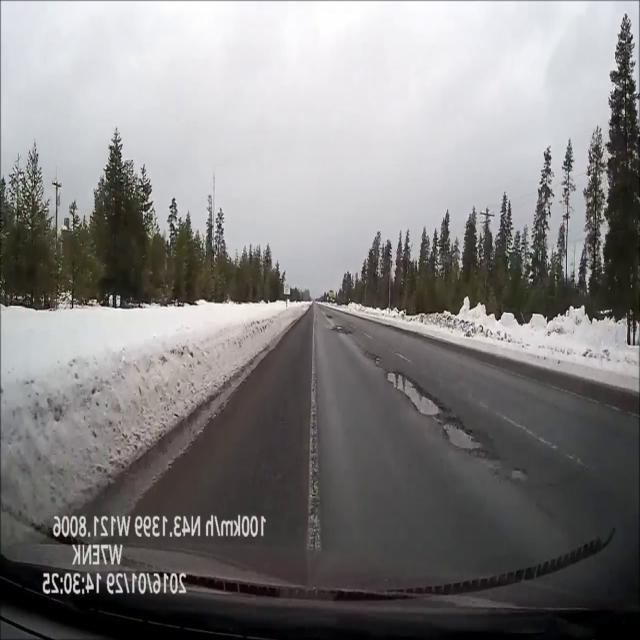pothole: (386, 372, 446, 417), (438, 419, 484, 452), (333, 325, 351, 337), (326, 314, 333, 320)
